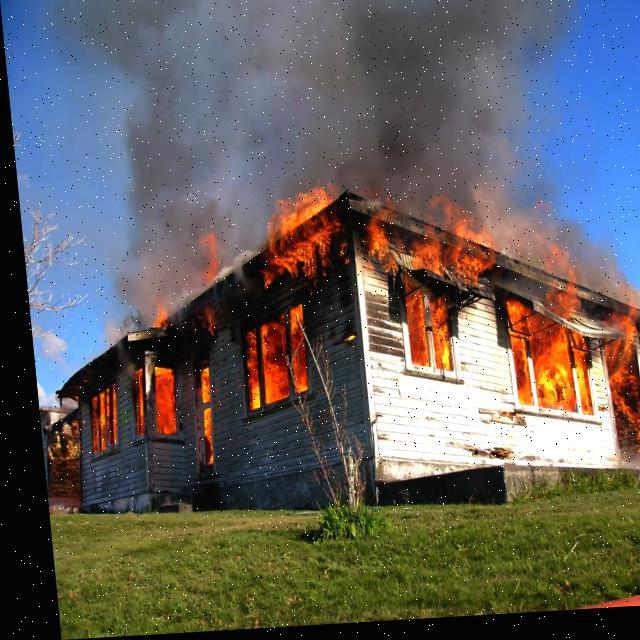Fire: (496, 251, 639, 466), (366, 184, 498, 394), (244, 185, 344, 288), (230, 302, 304, 409), (76, 370, 166, 450), (185, 364, 206, 474)
